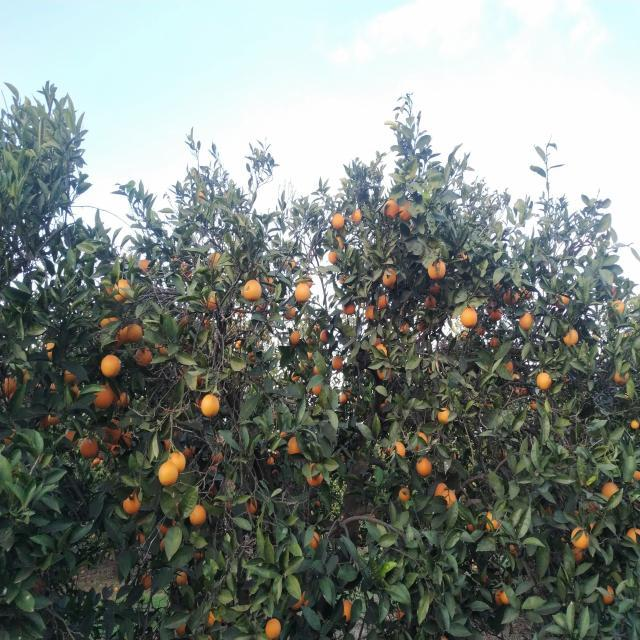Jeruk Sudah Matang: (101, 318, 122, 348), (158, 461, 178, 487), (93, 384, 112, 410), (101, 354, 121, 378), (101, 420, 120, 444), (122, 492, 142, 514), (79, 436, 98, 459), (167, 451, 186, 474), (202, 394, 220, 418), (113, 278, 131, 302), (306, 463, 324, 487), (571, 526, 589, 550), (244, 279, 262, 302), (264, 618, 282, 640), (460, 306, 478, 328), (382, 200, 400, 220), (428, 260, 446, 280), (190, 504, 206, 526), (294, 283, 311, 303), (136, 348, 152, 368), (398, 200, 412, 222), (612, 299, 626, 321), (600, 483, 618, 500), (416, 458, 432, 477), (598, 584, 614, 603), (287, 436, 302, 456), (390, 441, 406, 459), (562, 328, 578, 346), (536, 372, 552, 390), (128, 324, 142, 344), (442, 490, 456, 510), (382, 268, 397, 286), (519, 313, 533, 332), (206, 610, 222, 626), (374, 344, 388, 362), (486, 512, 499, 531), (342, 600, 352, 624), (377, 364, 392, 380), (626, 527, 640, 544), (203, 293, 217, 310), (245, 498, 258, 516), (438, 407, 450, 426), (556, 292, 570, 308), (66, 431, 79, 448), (180, 262, 192, 280), (64, 369, 78, 384), (433, 482, 447, 497), (341, 301, 356, 315), (614, 370, 628, 385), (503, 290, 518, 304), (308, 532, 320, 549), (119, 326, 130, 344), (117, 392, 130, 407), (44, 342, 56, 358), (292, 594, 304, 610), (122, 432, 134, 448), (424, 294, 436, 310), (110, 385, 120, 404), (208, 253, 220, 268), (364, 305, 376, 320), (160, 521, 173, 534), (398, 488, 411, 501), (139, 259, 151, 273), (176, 572, 188, 586), (332, 214, 344, 228), (284, 305, 296, 319), (0, 381, 10, 397), (268, 277, 278, 293), (417, 432, 429, 445), (332, 356, 343, 370), (500, 590, 510, 605), (490, 308, 502, 320), (351, 210, 362, 223), (428, 281, 439, 294), (39, 414, 49, 428), (141, 574, 151, 588), (378, 296, 388, 310), (328, 250, 338, 264), (290, 330, 300, 344), (520, 286, 531, 298), (494, 590, 502, 606), (48, 414, 60, 424), (6, 377, 14, 392), (22, 368, 30, 383), (210, 452, 222, 462), (504, 362, 514, 374), (312, 384, 322, 396), (184, 446, 194, 458), (136, 532, 145, 544), (336, 237, 344, 250), (72, 385, 78, 402), (399, 322, 409, 332), (372, 338, 382, 348), (320, 330, 328, 342), (630, 420, 640, 429), (489, 338, 498, 348), (418, 322, 427, 332), (248, 351, 255, 363), (50, 384, 58, 394), (468, 524, 478, 532), (339, 393, 347, 403), (291, 372, 299, 382), (94, 457, 100, 465), (313, 366, 319, 374)
